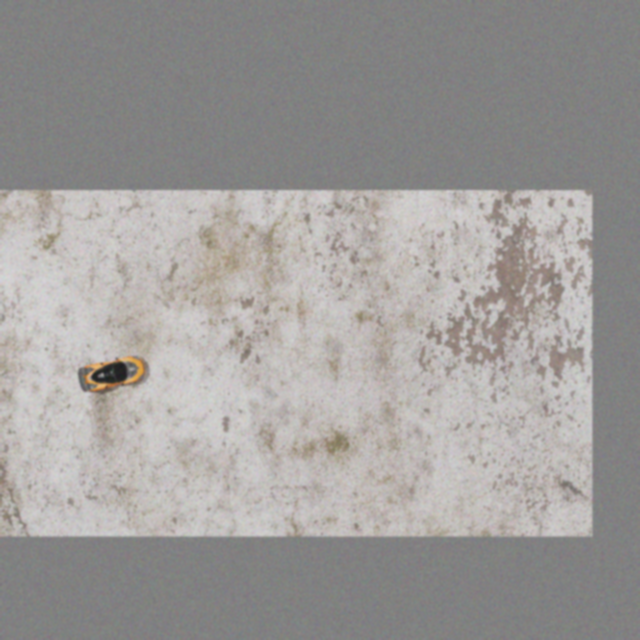car: (75, 352, 148, 395)
